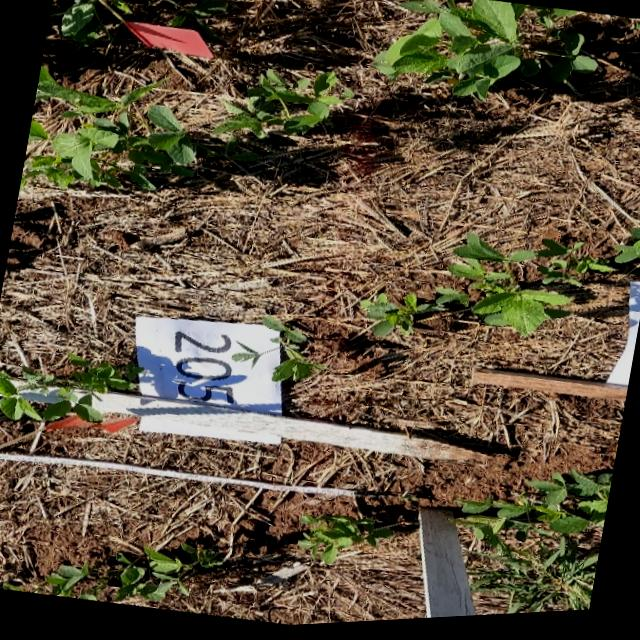grassy_weed: (467, 532, 602, 619)
soy_plant: (360, 235, 640, 340), (373, 0, 596, 103), (19, 67, 194, 191), (454, 477, 612, 553), (31, 546, 219, 603), (0, 353, 139, 424), (215, 73, 347, 140), (49, 0, 227, 47), (296, 518, 391, 567), (262, 319, 324, 385)
